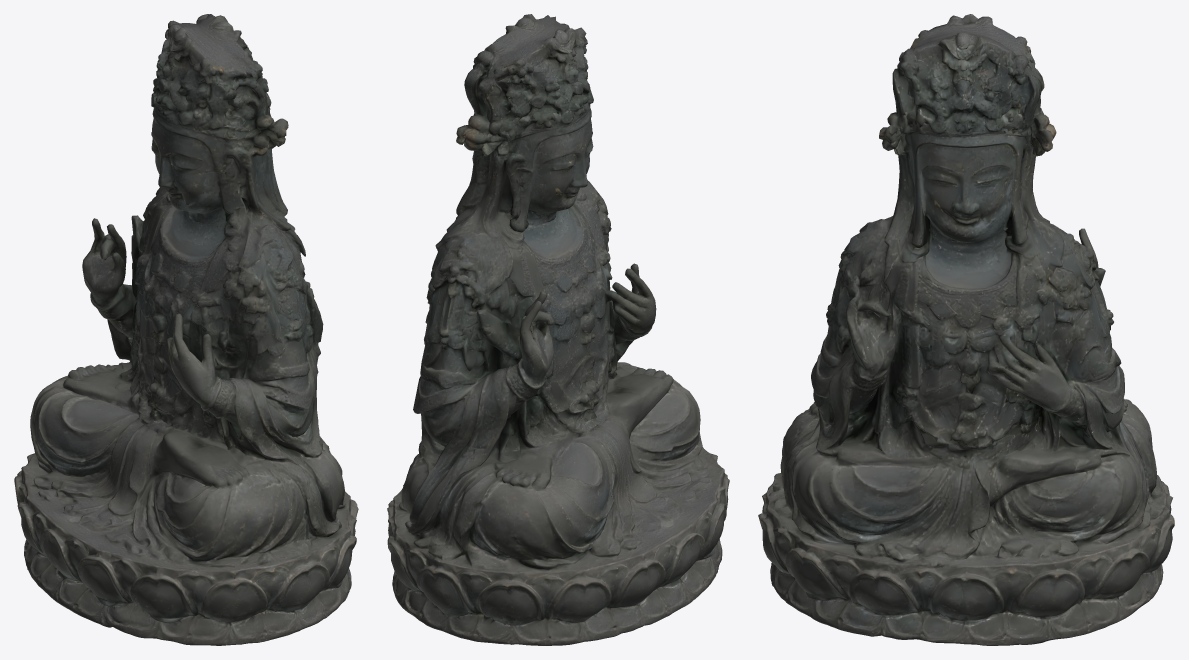
The picture shows the model from 3 angles, left to right: view 1: azimuth 30°, elevation 25°; view 2: azimuth 150°, elevation 25°; view 3: azimuth 270°, elevation 25°; orthographic projection. The views are drawn at different scales.
Visible parts, largest first — view 1: tripo_node_e0bf9ae8-e43f-48f3-96b2-e8fc3a9aa878; view 2: tripo_node_e0bf9ae8-e43f-48f3-96b2-e8fc3a9aa878; view 3: tripo_node_e0bf9ae8-e43f-48f3-96b2-e8fc3a9aa878.
Part boxes in pixels (box(x1,y1,x2,y2)): tripo_node_e0bf9ae8-e43f-48f3-96b2-e8fc3a9aa878: box(14, 14, 358, 645); tripo_node_e0bf9ae8-e43f-48f3-96b2-e8fc3a9aa878: box(387, 14, 729, 645); tripo_node_e0bf9ae8-e43f-48f3-96b2-e8fc3a9aa878: box(758, 14, 1174, 645).
Bounding box in the file's own units: 0.5252 × 1 × 0.6671.
Materials: 1 (1 with a texture image).
